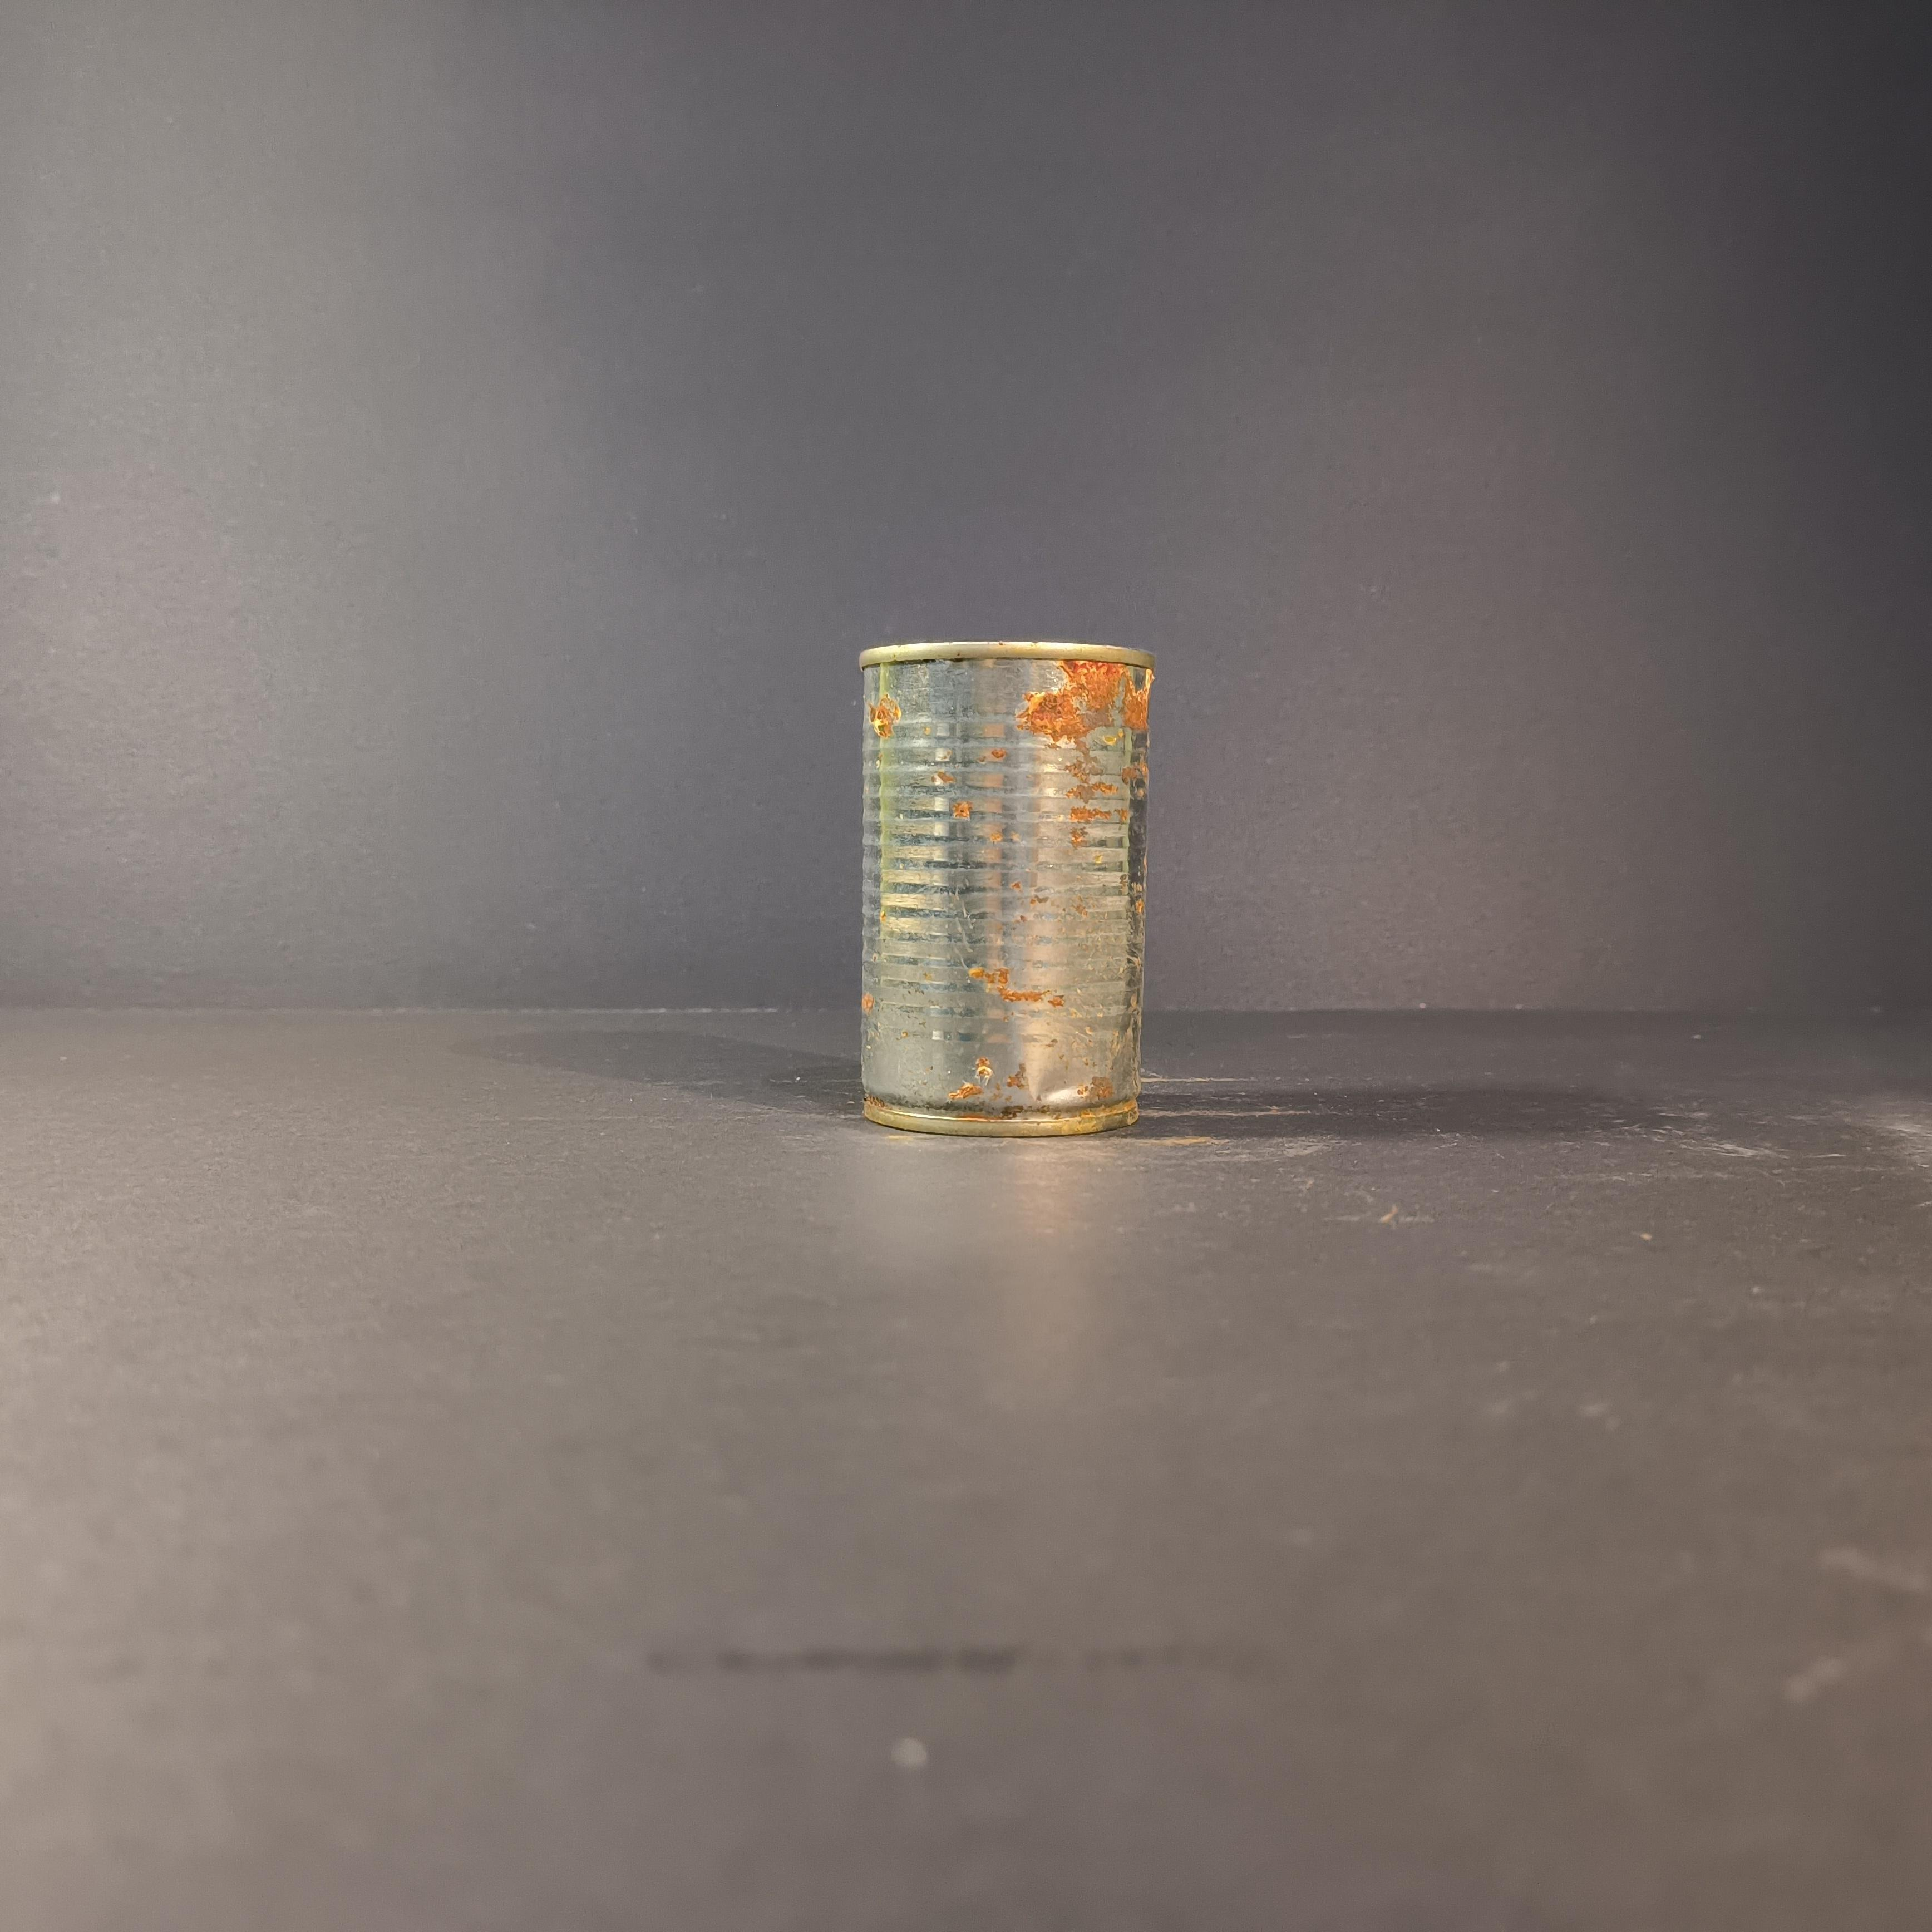Rusted: (849, 617, 1162, 1148)
